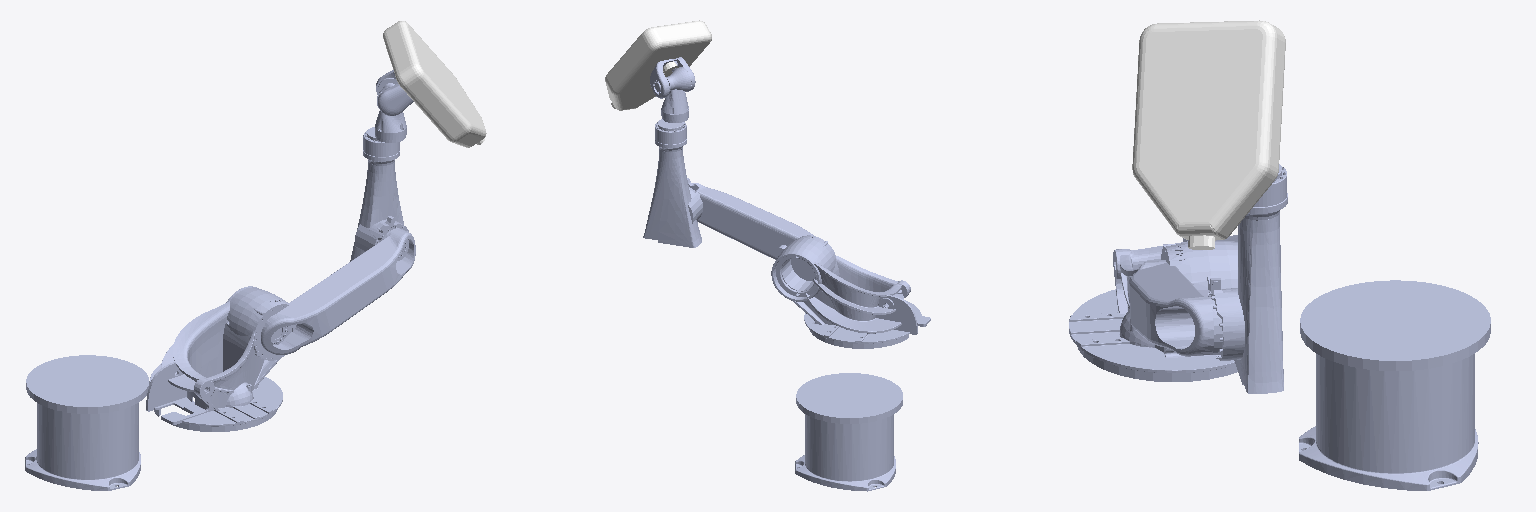
robot.urdf — ck_robot:
<?xml version="1.0" encoding="utf-8"?>
<!-- This URDF was automatically created by SolidWorks to URDF Exporter! Originally created by [author] ([email redacted]) 
     Commit Version: 1.6.0-1-g15f4949  Build Version: 1.6.7594.29634
     For more information, please see http://wiki.ros.org/sw_urdf_exporter -->
<robot
  name="ck_robot">
  <link name="world" />
  <link
    name="base_link">
    <inertial>
      <origin
        xyz="0.268464969990104 0.284520791548056 0.59851966368383"
        rpy="0 0 0" />
      <mass
        value="60.1875042918917" />
      <inertia
        ixx="1.58272942356572"
        ixy="-1.00442193082991E-08"
        ixz="-6.13419327373049E-09"
        iyy="1.49216689626303"
        iyz="8.19101028288463E-06"
        izz="1.58271804885092" />
    </inertial>
    <visual>
      <origin
        xyz="0 0 0"
        rpy="0 0 0" />
      <geometry>
        <mesh
          filename="package://ck_robot/meshes/base_link.STL" />
      </geometry>
      <material
        name="">
        <color
          rgba="0.792156862745098 0.819607843137255 0.933333333333333 1" />
      </material>
    </visual>
    <collision>
      <origin
        xyz="0 0 0"
        rpy="0 0 0" />
      <geometry>
        <mesh
          filename="package://ck_robot/meshes/base_link.STL" />
      </geometry>
    </collision>
  </link>
  <link
    name="link_1">
    <inertial>
      <origin
        xyz="0.10280930500268 0.172949537137502 -0.0437085356954771"
        rpy="0 0 0" />
      <mass
        value="1" />
      <inertia
        ixx="0.361208774715564"
        ixy="-0.152719163095036"
        ixz="0.00577624624249581"
        iyy="0.646329104489432"
        iyz="0.0274979066592256"
        izz="0.643947644736266" />
    </inertial>
    <visual>
      <origin
        xyz="0 0 0"
        rpy="0 0 0" />
      <geometry>
        <mesh
          filename="package://ck_robot/meshes/link_1.STL" />
      </geometry>
      <material
        name="">
        <color
          rgba="0.792156862745098 0.819607843137255 0.933333333333333 1" />
      </material>
    </visual>
    <collision>
      <origin
        xyz="0 0 0"
        rpy="0 0 0" />
      <geometry>
        <mesh
          filename="package://ck_robot/meshes/link_1.STL" />
      </geometry>
    </collision>
  </link>
  <joint name="world_to_base_link" type="fixed">
    <parent link="world" />
    <child link="base_link" />
  </joint>
  <joint
    name="joint_1"
    type="continuous">
    <origin
      xyz="0.268464971217371 -0.598518951650115 0.442083103301491"
      rpy="1.5707963267949 0 0.144460400809996" />
    <parent
      link="base_link" />
    <child
      link="link_1" />
    <axis
      xyz="0 1 0" />
  </joint>
  <link
    name="link_2">
    <inertial>
      <origin
        xyz="0.000189695035715642 0.303434216398242 0.155090259860337"
        rpy="0 0 0" />
      <mass
        value="1" />
      <inertia
        ixx="0.593276686471504"
        ixy="-0.000669754979847111"
        ixz="0.000213393474780362"
        iyy="0.0591609394583497"
        iyz="-0.0259775958519965"
        izz="0.59310381188485" />
    </inertial>
    <visual>
      <origin
        xyz="0 0 0"
        rpy="0 0 0" />
      <geometry>
        <mesh
          filename="package://ck_robot/meshes/link_2.STL" />
      </geometry>
      <material
        name="">
        <color
          rgba="0.792156862745098 0.819607843137255 0.933333333333333 1" />
      </material>
    </visual>
    <collision>
      <origin
        xyz="0 0 0"
        rpy="0 0 0" />
      <geometry>
        <mesh
          filename="package://ck_robot/meshes/link_2.STL" />
      </geometry>
    </collision>
  </link>
  <joint
    name="joint_2"
    type="continuous">
    <origin
      xyz="0.285 0.279 0"
      rpy="0 0 -1.27141640789434" />
    <parent
      link="link_1" />
    <child
      link="link_2" />
    <axis
      xyz="0 0 1" />
  </joint>
  <link
    name="link_3">
    <inertial>
      <origin
        xyz="-0.106989348552819 -0.0174835771333657 0.017651513701905"
        rpy="0 0 0" />
      <mass
        value="1" />
      <inertia
        ixx="0.0627293128565049"
        ixy="-0.0084283421700578"
        ixz="0.0203383321733268"
        iyy="0.445734573968538"
        iyz="0.00436690377630759"
        izz="0.457163524633178" />
    </inertial>
    <visual>
      <origin
        xyz="0 0 0"
        rpy="0 0 0" />
      <geometry>
        <mesh
          filename="package://ck_robot/meshes/link_3.STL" />
      </geometry>
      <material
        name="">
        <color
          rgba="0.792156862745098 0.819607843137255 0.933333333333333 1" />
      </material>
    </visual>
    <collision>
      <origin
        xyz="0 0 0"
        rpy="0 0 0" />
      <geometry>
        <mesh
          filename="package://ck_robot/meshes/link_3.STL" />
      </geometry>
    </collision>
  </link>
  <joint
    name="joint_3"
    type="continuous">
    <origin
      xyz="0 0.67999999999999 0"
      rpy="-3.14159265358979 0 -0.313045625626455" />
    <parent
      link="link_2" />
    <child
      link="link_3" />
    <axis
      xyz="0 0 1" />
  </joint>
  <link
    name="link_4">
    <inertial>
      <origin
        xyz="0.00674065478440106 0.108276652100493 0.000146088737235539"
        rpy="0 0 0" />
      <mass
        value="1" />
      <inertia
        ixx="0.0138352619261862"
        ixy="-0.00127244271994891"
        ixz="-7.82632002535892E-06"
        iyy="0.00431376770209576"
        iyz="1.87534580523264E-06"
        izz="0.0140397247314502" />
    </inertial>
    <visual>
      <origin
        xyz="0 0 0"
        rpy="0 0 0" />
      <geometry>
        <mesh
          filename="package://ck_robot/meshes/link_4.STL" />
      </geometry>
      <material
        name="">
        <color
          rgba="0.792156862745098 0.819607843137255 0.933333333333333 1" />
      </material>
    </visual>
    <collision>
      <origin
        xyz="0 0 0"
        rpy="0 0 0" />
      <geometry>
        <mesh
          filename="package://ck_robot/meshes/link_4.STL" />
      </geometry>
    </collision>
  </link>
  <joint
    name="joint_4"
    type="continuous">
    <origin
      xyz="-0.474166946244357 -0.022499999999998 0.0329999999999995"
      rpy="0 0.956127472462032 1.5707963267949" />
    <parent
      link="link_3" />
    <child
      link="link_4" />
    <axis
      xyz="0 1 0" />
  </joint>
  <link
    name="link_5">
    <inertial>
      <origin
        xyz="-0.0153730128815858 3.63685714777073E-06 0.0564414779216935"
        rpy="0 0 0" />
      <mass
        value="1" />
      <inertia
        ixx="0.00559747896590421"
        ixy="-1.9326688324012E-07"
        ixz="0.000253093583976348"
        iyy="0.0113977417293985"
        iyz="-5.42342142822669E-07"
        izz="0.00867630419925224" />
    </inertial>
    <visual>
      <origin
        xyz="0 0 0"
        rpy="0 0 0" />
      <geometry>
        <mesh
          filename="package://ck_robot/meshes/link_5.STL" />
      </geometry>
      <material
        name="">
        <color
          rgba="0.792156862745098 0.819607843137255 0.933333333333333 1" />
      </material>
    </visual>
    <collision>
      <origin
        xyz="0 0 0"
        rpy="0 0 0" />
      <geometry>
        <mesh
          filename="package://ck_robot/meshes/link_5.STL" />
      </geometry>
    </collision>
  </link>
  <joint
    name="joint_5"
    type="continuous">
    <origin
      xyz="0 0.192333053755625 0"
      rpy="2.51840109391516 0 3.14159265358979" />
    <parent
      link="link_4" />
    <child
      link="link_5" />
    <axis
      xyz="1 0 0" />
  </joint>
  <link
    name="link_6">
    <inertial>
      <origin
        xyz="8.56454542169649E-06 -0.0809075419567876 0.265444706436671"
        rpy="0 0 0" />
      <mass
        value="1" />
      <inertia
        ixx="0.638941947594122"
        ixy="7.18496179886287E-05"
        ixz="-8.54297844271601E-08"
        iyy="0.314905899619827"
        iyz="0.00125056364890488"
        izz="0.894635702009243" />
    </inertial>
    <visual>
      <origin
        xyz="0 0 0"
        rpy="0 0 0" />
      <geometry>
        <mesh
          filename="package://ck_robot/meshes/link_6.STL" />
      </geometry>
      <material
        name="">
        <color
          rgba="1 1 1 1" />
      </material>
    </visual>
    <collision>
      <origin
        xyz="0 0 0"
        rpy="0 0 0" />
      <geometry>
        <mesh
          filename="package://ck_robot/meshes/link_6.STL" />
      </geometry>
    </collision>
  </link>
  <joint
    name="joint_6"
    type="continuous">
    <origin
      xyz="-0.0159999999999946 0 0"
      rpy="0 0 0.232084976469764" />
    <parent
      link="link_5" />
    <child
      link="link_6" />
    <axis
      xyz="0 0 1" />
  </joint>

  <transmission name="trans_1">
    <type>transmission_interface/SimpleTransmission</type>
    <joint name="joint_1">
      <hardwareInterface>hardware_interface/VelocityJointInterface</hardwareInterface>
    </joint>
    <actuator name="motor_1">
      <mechanicalReduction>50</mechanicalReduction>
      <hardwareInterface>hardware_interface/VelocityJointInterface</hardwareInterface>
    </actuator>
 </transmission>

  <transmission name="trans_2">
    <type>transmission_interface/SimpleTransmission</type>
    <joint name="joint_2">
      <hardwareInterface>hardware_interface/VelocityJointInterface</hardwareInterface>
    </joint>
    <actuator name="motor_2">
      <mechanicalReduction>50</mechanicalReduction>
      <hardwareInterface>hardware_interface/VelocityJointInterface</hardwareInterface>
    </actuator>
 </transmission>

  <transmission name="trans_3">
    <type>transmission_interface/SimpleTransmission</type>
    <joint name="joint_3">
      <hardwareInterface>hardware_interface/VelocityJointInterface</hardwareInterface>
    </joint>
    <actuator name="motor_3">
      <mechanicalReduction>50</mechanicalReduction>
      <hardwareInterface>hardware_interface/VelocityJointInterface</hardwareInterface>
    </actuator>
 </transmission>

  <transmission name="trans_4">
    <type>transmission_interface/SimpleTransmission</type>
    <joint name="joint_4">
      <hardwareInterface>hardware_interface/VelocityJointInterface</hardwareInterface>
    </joint>
    <actuator name="motor_4">
      <mechanicalReduction>50</mechanicalReduction>
      <hardwareInterface>hardware_interface/VelocityJointInterface</hardwareInterface>
    </actuator>
 </transmission>

  <transmission name="trans_5">
    <type>transmission_interface/SimpleTransmission</type>
    <joint name="joint_5">
      <hardwareInterface>hardware_interface/VelocityJointInterface</hardwareInterface>
    </joint>
    <actuator name="motor_5">
      <mechanicalReduction>50</mechanicalReduction>
      <hardwareInterface>hardware_interface/VelocityJointInterface</hardwareInterface>
    </actuator>
 </transmission>

  <transmission name="trans_6">
    <type>transmission_interface/SimpleTransmission</type>
    <joint name="joint_6">
      <hardwareInterface>hardware_interface/VelocityJointInterface</hardwareInterface>
    </joint>
    <actuator name="motor_6">
      <mechanicalReduction>50</mechanicalReduction>
      <hardwareInterface>hardware_interface/VelocityJointInterface</hardwareInterface>
    </actuator>
 </transmission>

 <gazebo reference="base_link">
  <gravity>0</gravity>
 </gazebo>
 <gazebo reference="link_1">
  <gravity>0</gravity>
 </gazebo>
 <gazebo reference="link_2">
  <gravity>0</gravity>
 </gazebo>
 <gazebo reference="link_3">
  <gravity>0</gravity>
 </gazebo>
 <gazebo reference="link_4">
  <gravity>0</gravity>
 </gazebo>
 <gazebo reference="link_5">
  <gravity>0</gravity>
 </gazebo>
 <gazebo reference="link_6">
  <gravity>0</gravity>
 </gazebo>

</robot>

--- What the picture shows (computed from the rendered views, not written in the file) ---
Views: 3 orthographic renders of the robot side by side, from view 1: azimuth 30°, elevation 25°; view 2: azimuth 150°, elevation 25°; view 3: azimuth 270°, elevation 25°.
Model ck_robot with 8 links and 7 joints (6 continuous, 1 fixed), rooted at world, posed all joints at 0.
Visible links, largest first — view 1: base_link, link_1, link_2, link_6, link_3, link_5, link_4; view 2: base_link, link_1, link_3, link_6, link_2, link_4, link_5; view 3: base_link, link_6, link_1, link_3, link_2.
Link boxes in pixels (<box>): base_link: <box>25,355,149,490</box>; link_1: <box>146,286,296,431</box>; link_2: <box>261,229,415,354</box>; link_6: <box>383,21,486,147</box>; link_3: <box>350,127,408,261</box>; link_5: <box>376,70,413,115</box>; link_4: <box>375,83,406,142</box>; base_link: <box>795,373,902,491</box>; link_1: <box>771,235,930,348</box>; link_3: <box>643,119,702,247</box>; link_6: <box>605,20,711,110</box>; link_2: <box>692,183,814,280</box>; link_4: <box>661,67,691,122</box>; link_5: <box>650,57,695,98</box>; base_link: <box>1299,280,1490,490</box>; link_6: <box>1132,20,1285,249</box>; link_1: <box>1069,235,1237,381</box>; link_3: <box>1207,164,1287,393</box>; link_2: <box>1129,260,1213,356</box>.
Size in the robot's own frame: 1.89 by 1.15 by 1.9 metres.
Meshes: 7 distinct files referenced, 7 mesh visuals loaded (7 binary STL).
